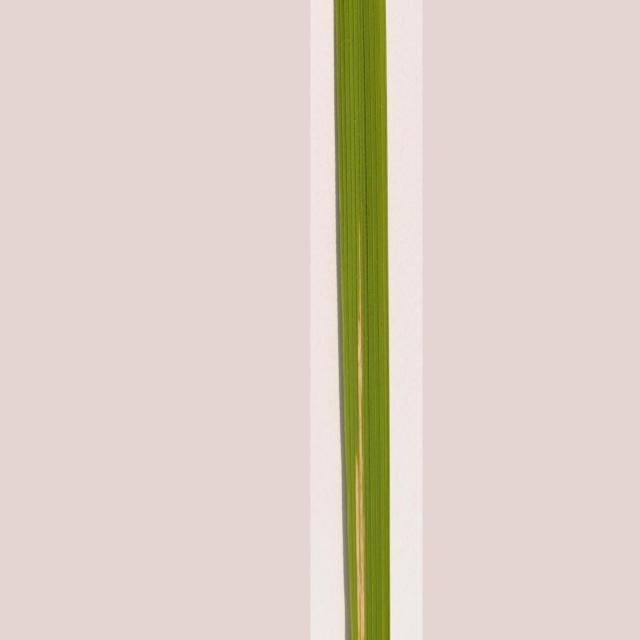leaf blight: (342, 216, 381, 639)
